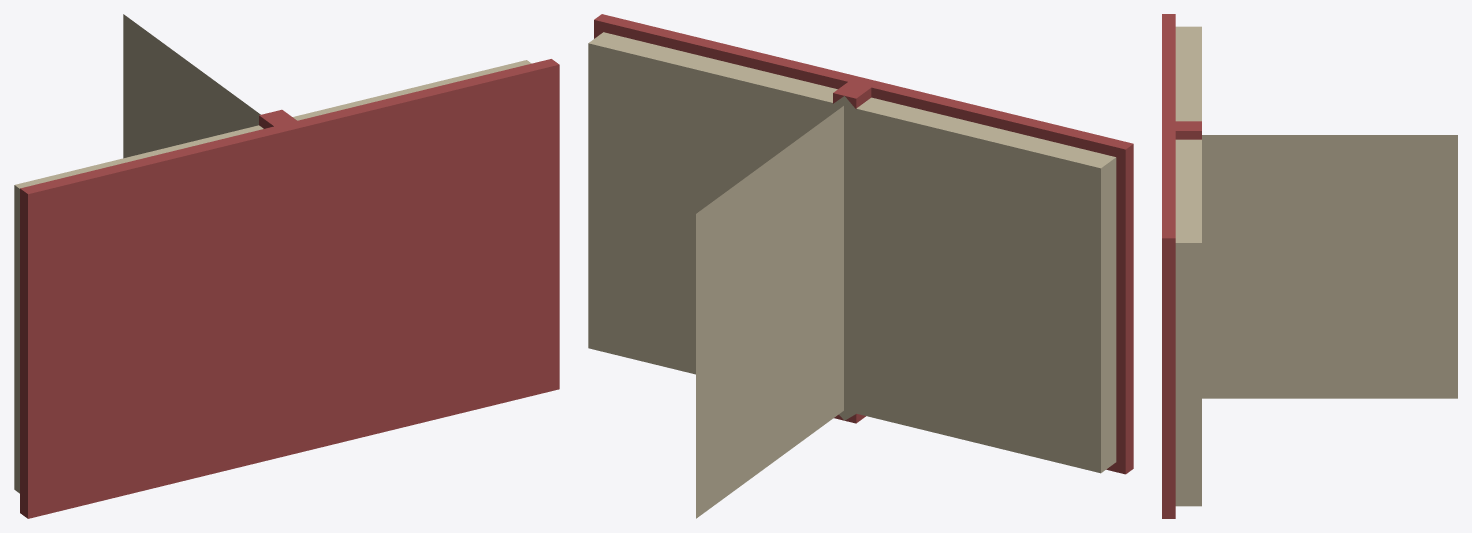
Rendered from menuBook.fbx.
3 renders of one model, left to right at view 1: azimuth 30°, elevation 25°; view 2: azimuth 150°, elevation 25°; view 3: azimuth 270°, elevation 25°, orthographic. The views are drawn at different scales.
Parts seen in each view (by area): view 1: backSide_noRotate, frontBook, page, page1; view 2: backSide_noRotate, frontBook, page, page1; view 3: page, page1, frontBook, backSide_noRotate.
Part boxes in pixels (box(x1,y1,x2,y2)): backSide_noRotate: box(14, 112, 293, 518); frontBook: box(271, 59, 559, 453); page: box(123, 14, 260, 158); page1: box(125, 17, 250, 157); backSide_noRotate: box(844, 79, 1133, 474); frontBook: box(588, 14, 867, 420); page: box(696, 106, 843, 518); page1: box(696, 111, 843, 517); page: box(1202, 135, 1457, 398); page1: box(1202, 135, 1457, 398); frontBook: box(1162, 126, 1201, 518); backSide_noRotate: box(1162, 14, 1201, 125).
Size of the model in its own units: 3.37 by 1.97 by 1.88.
